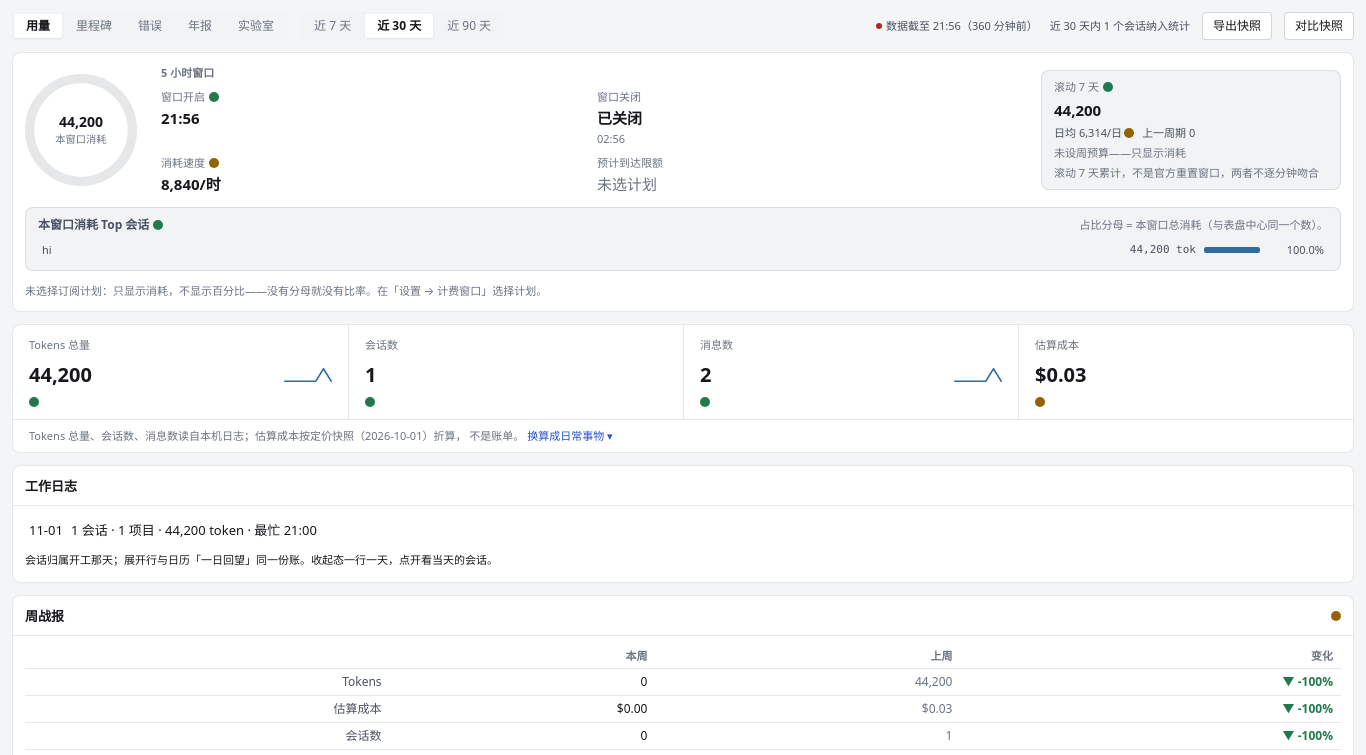
Scenario: UsageOverviewPage › 写入失败时就地给出可见错误，并放出错误 toast
Click the button with aria-label "导出用量快照（单文件 HTML）" at (1237, 26), box [1202,12,1272,40]
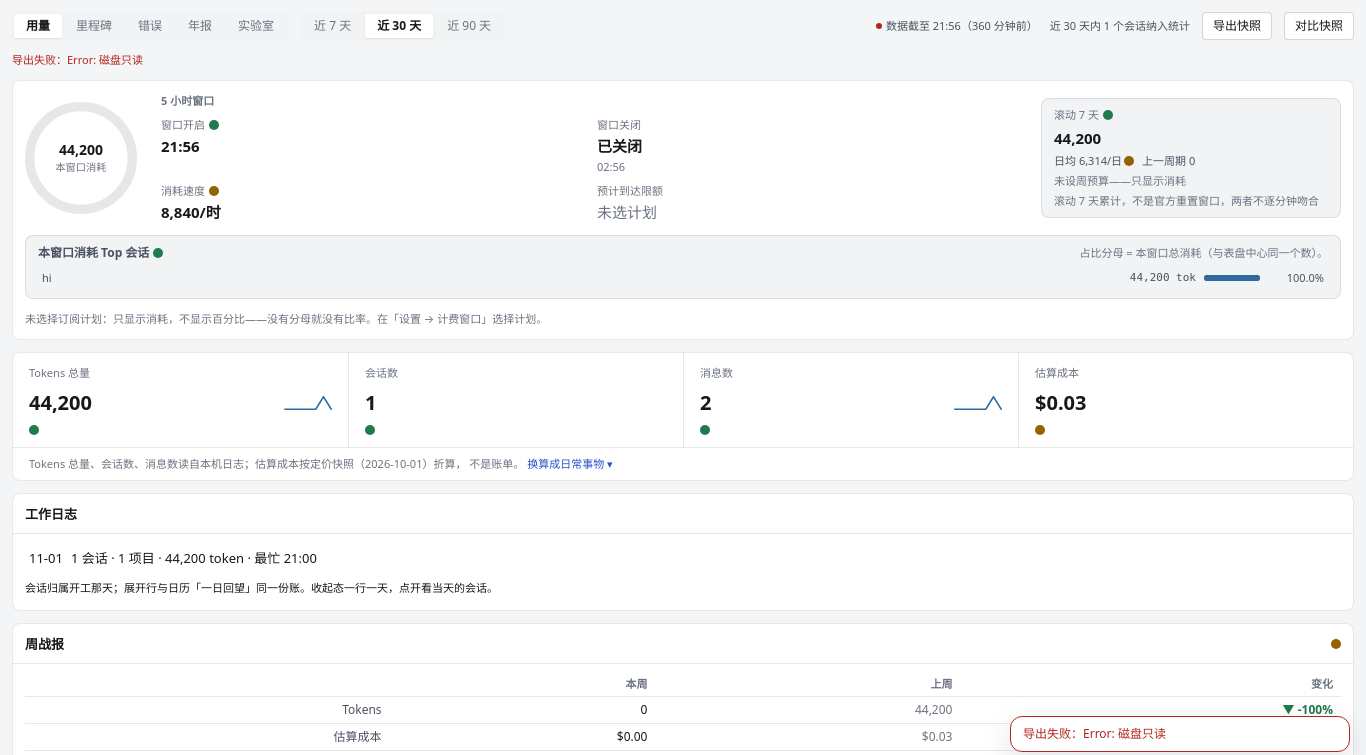
Check: the message "导出失败：Error: 磁盘只读" below "数据截至 21:56（360 分钟前）" is shown, box [12,52,143,67]
